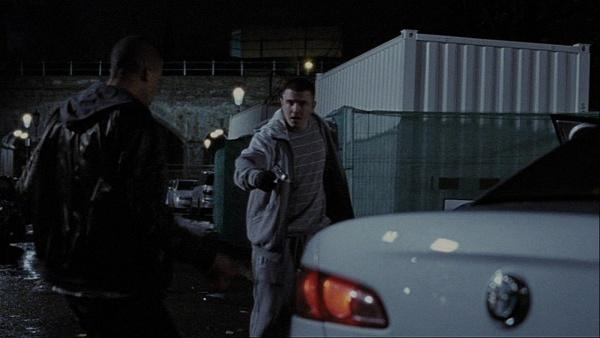Gun: (272, 162, 288, 188)
